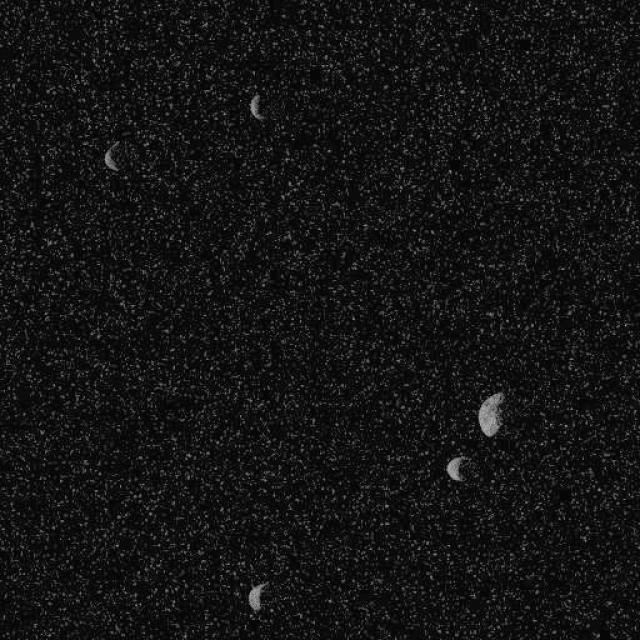D2: (476, 390, 505, 438), (246, 580, 268, 612), (445, 455, 467, 483), (102, 139, 121, 171), (247, 91, 265, 121)
